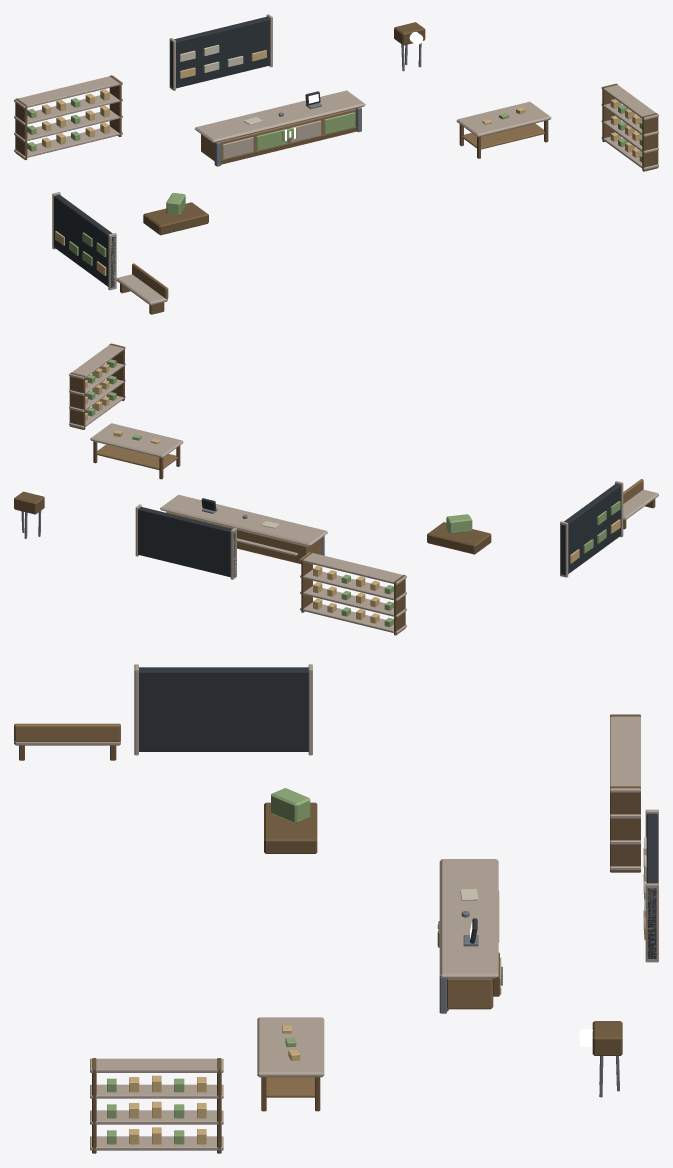
The model's file is westtrail_guide_table.glb.
3 views of the same model, one above another, from view 1: azimuth 30°, elevation 25°; view 2: azimuth 150°, elevation 25°; view 3: azimuth 270°, elevation 25° (orthographic). The views are drawn at different scales.
Size of the model in its own units: 21.59 by 2.82 by 14.45.
